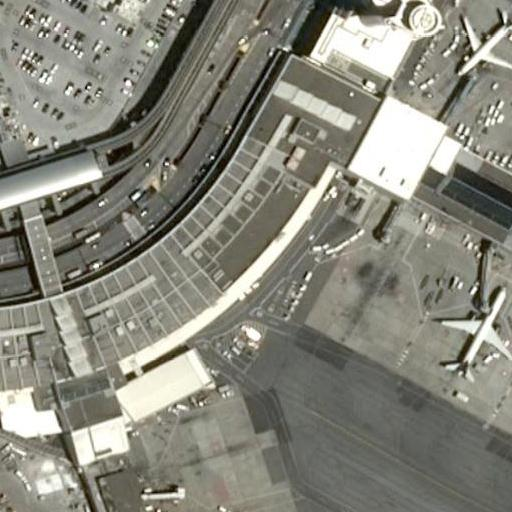Aircraft: (424, 275, 510, 384), (448, 5, 512, 88)
